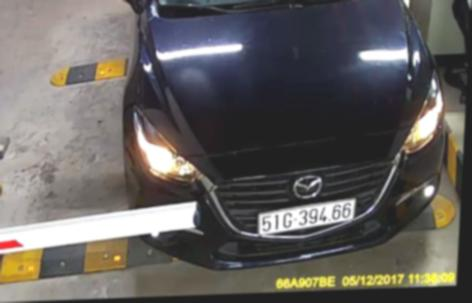License_Plate: (254, 199, 359, 237)
